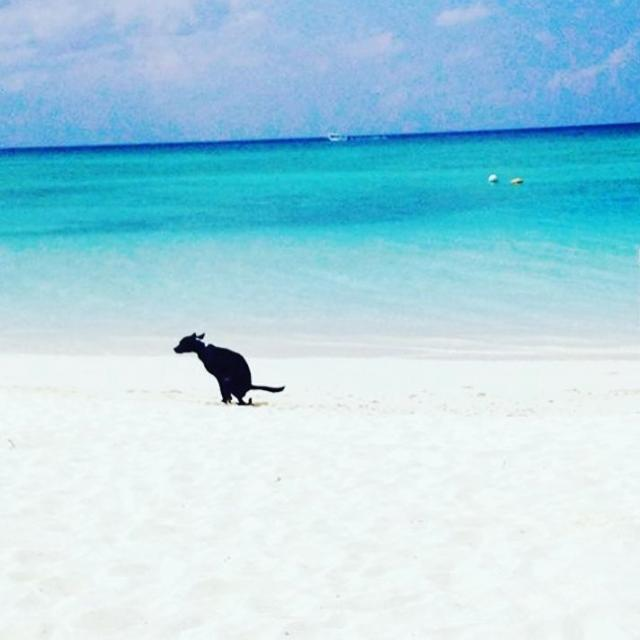squatting: (168, 328, 290, 417)
